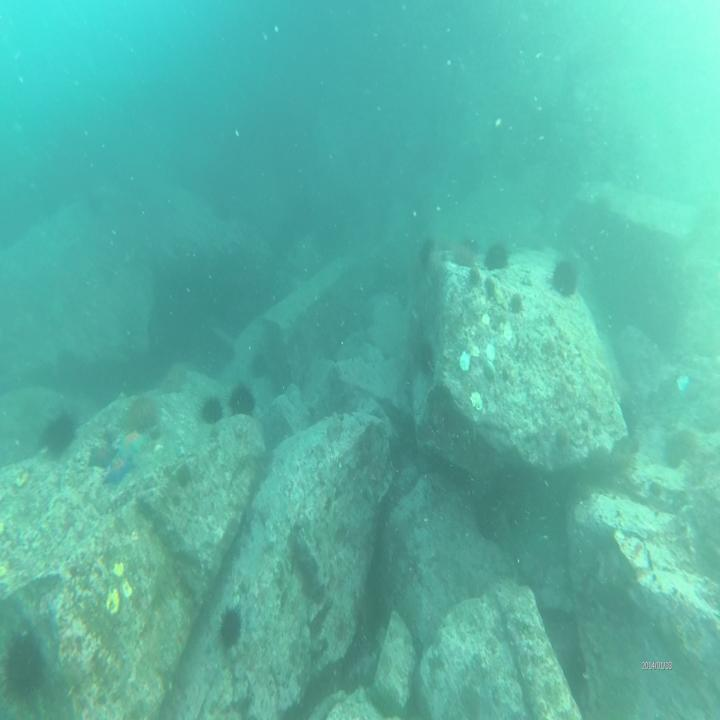echinus: (38, 407, 80, 462), (219, 599, 244, 651), (227, 380, 259, 419), (551, 255, 580, 298), (196, 390, 226, 426), (417, 338, 439, 379), (452, 239, 479, 271), (483, 239, 510, 271), (418, 231, 436, 278)
starfish: (103, 453, 132, 483), (118, 425, 147, 455), (86, 439, 118, 466)
